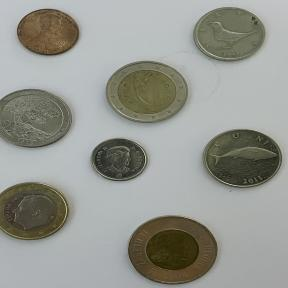1 Euro-B: (0, 180, 75, 244)
2 Euro-B: (98, 56, 192, 128)
Canada-10cent-B: (88, 133, 152, 183)
Canada-2Dollar-B: (121, 208, 223, 288)
Croatia-2Kune-B: (196, 124, 287, 192)
US-1cent-B: (12, 6, 82, 60)
US-25cent-B: (0, 84, 74, 150)
